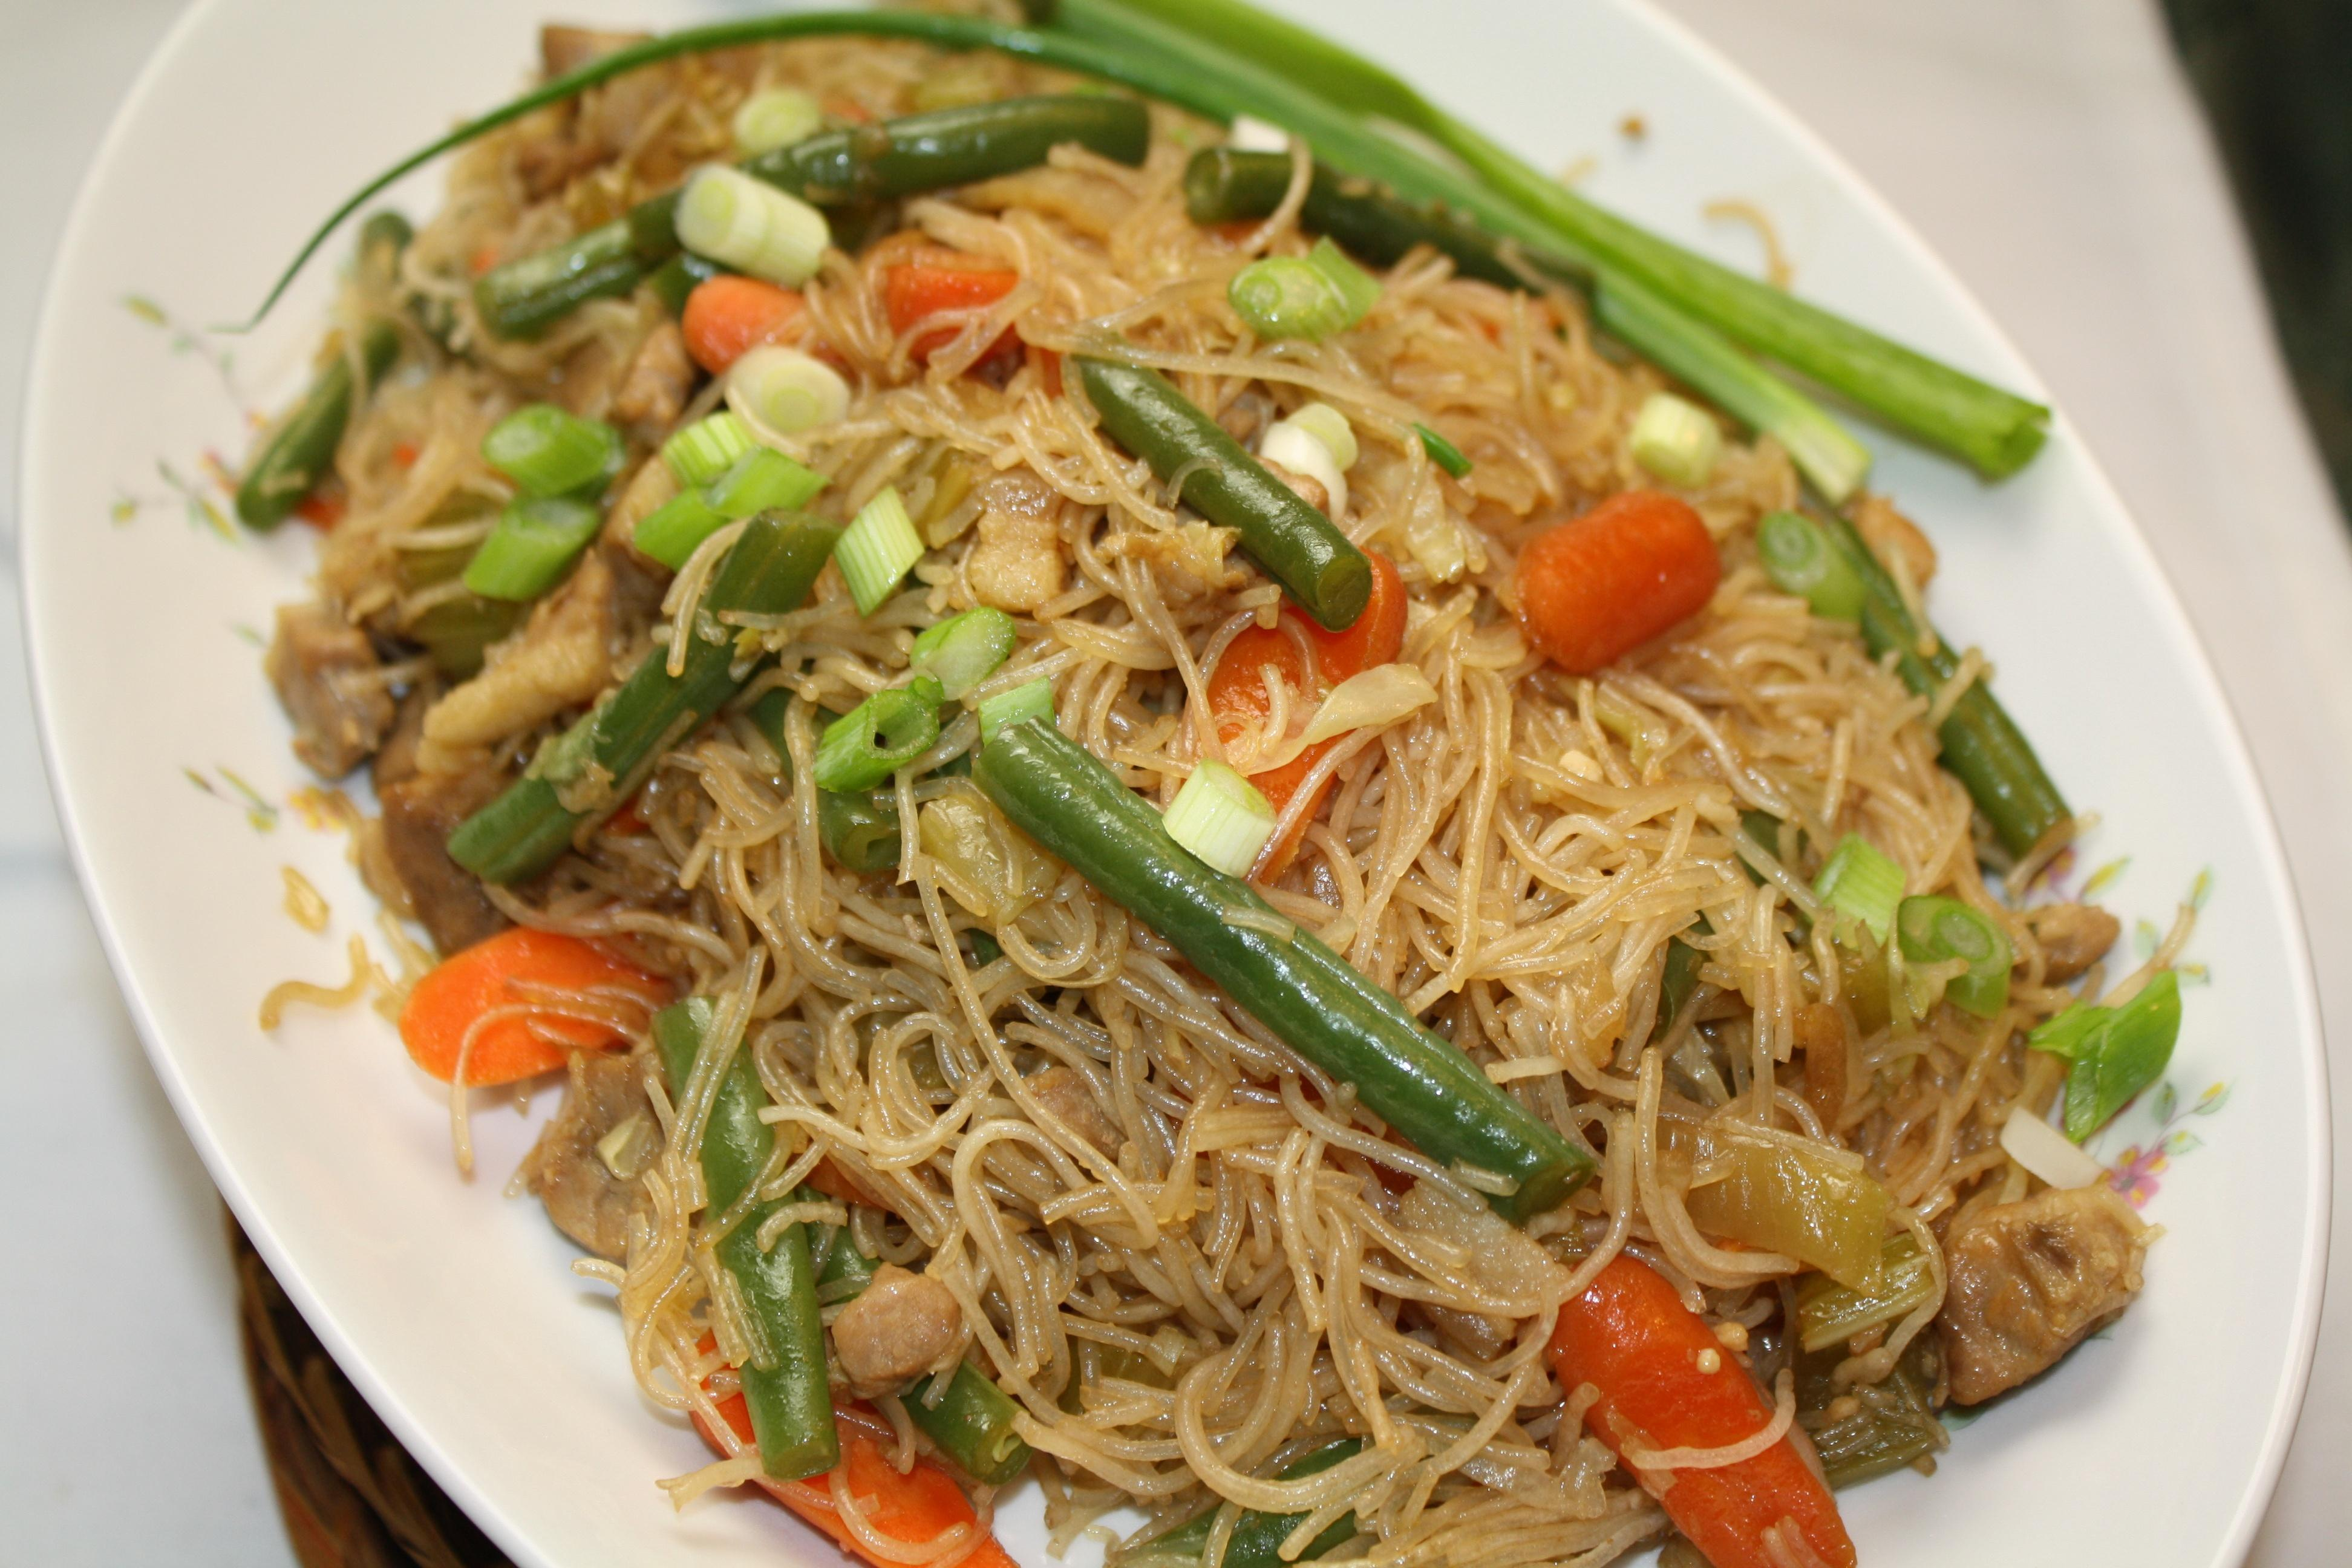pancit bihon: (275, 51, 2144, 1568)
